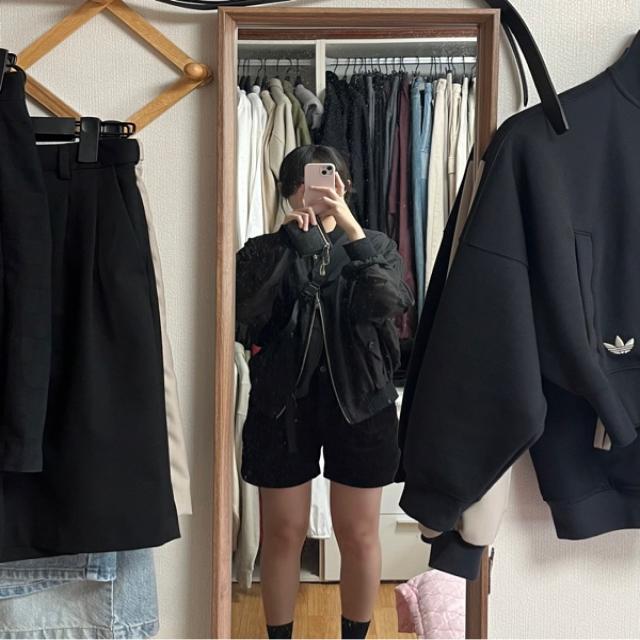jacket: (238, 223, 415, 430)
shortpants: (245, 360, 404, 493)
